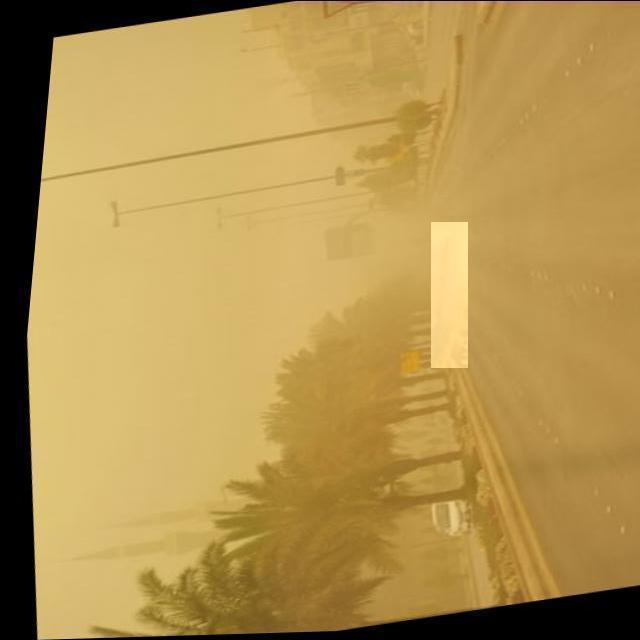Unmarked Bump: (431, 222, 468, 368)
